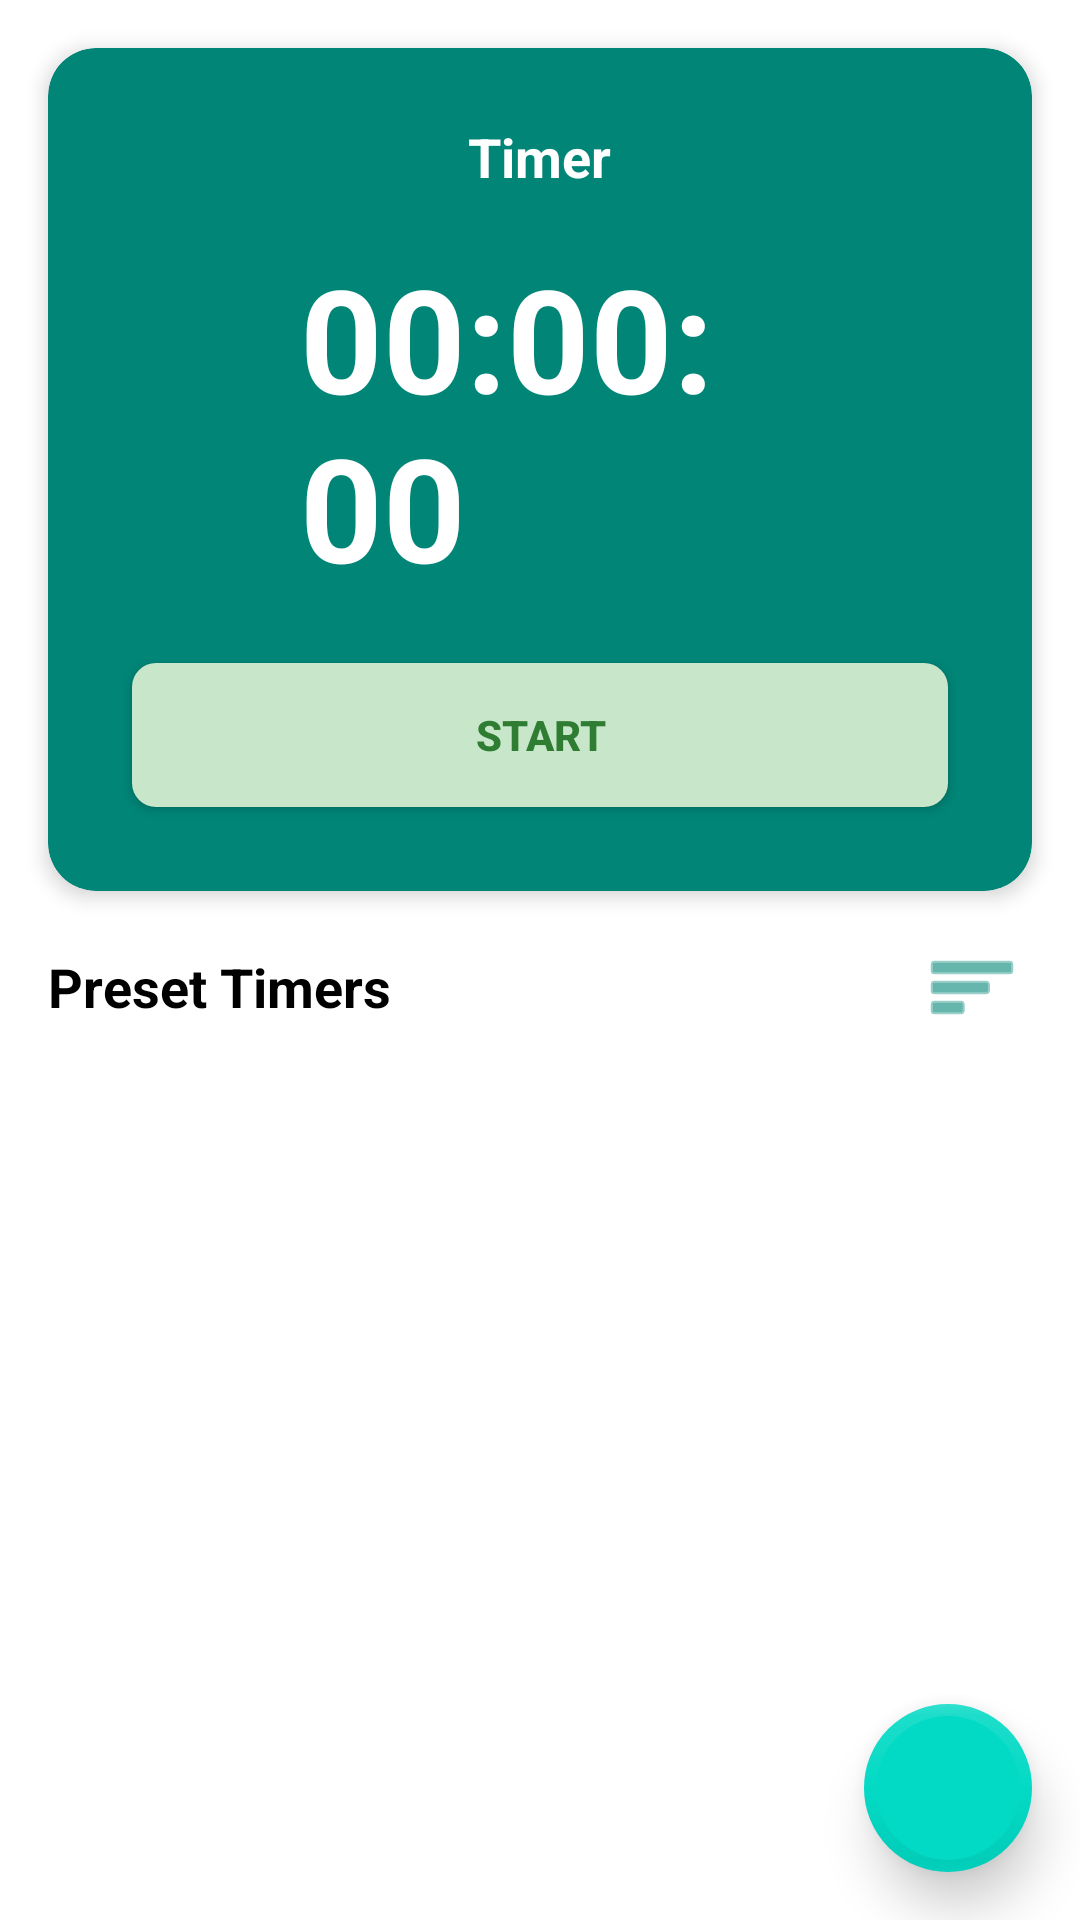

Named icons in this screenshot (1080×1920) and their centers, (x,y):
Sort timers: (972,987)
